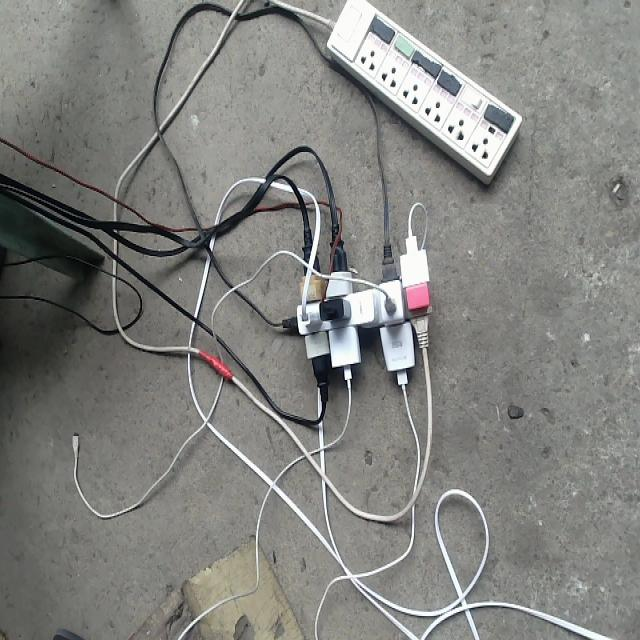-: (284, 232, 434, 381)
